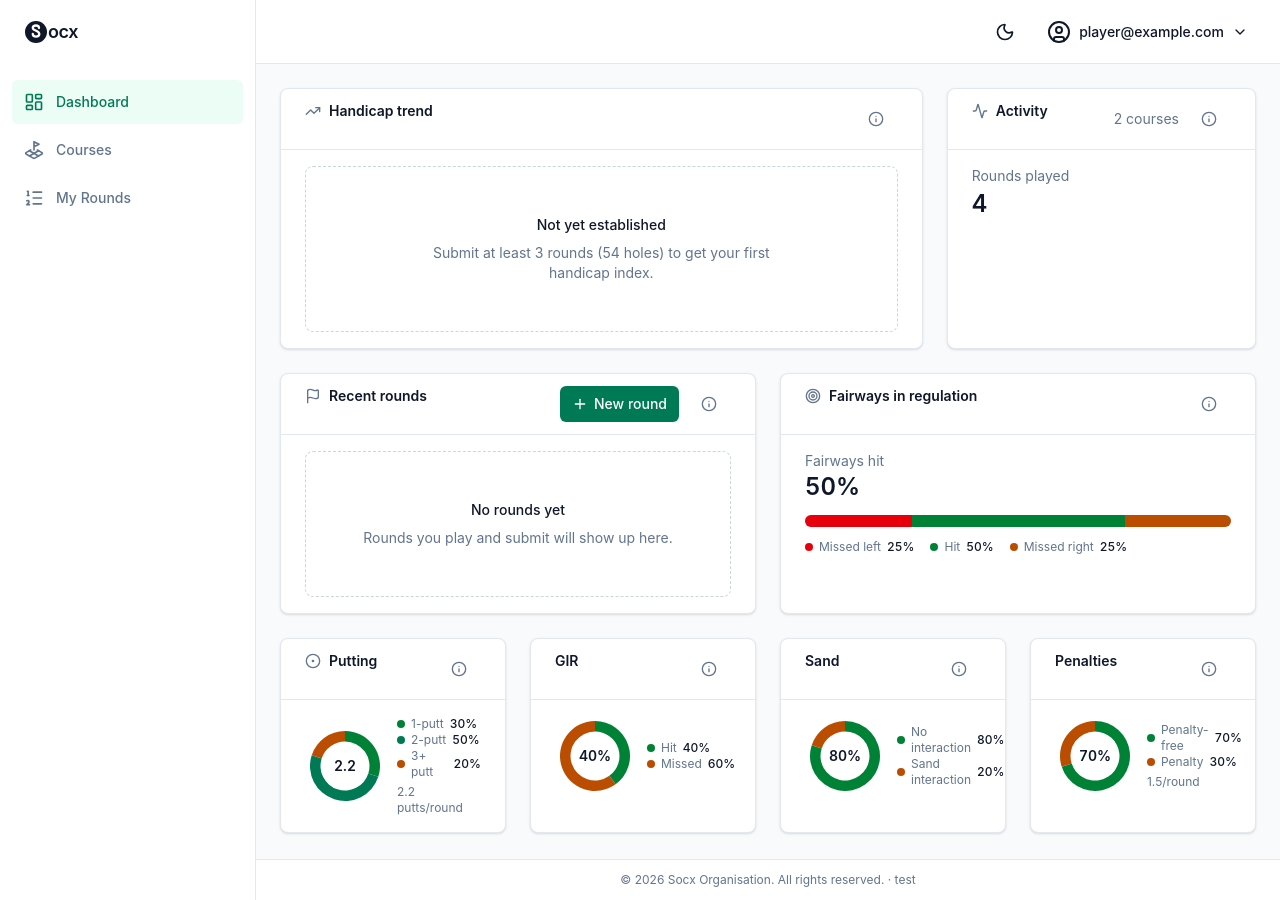
Test case: PlayerDashboardPage › navigates to /rounds/new via the New round button (ghs#94)
The width and height of the screenshot is (1280, 900).
Step 1. Click the button "New round" → (620, 404), box [560,386,679,422]
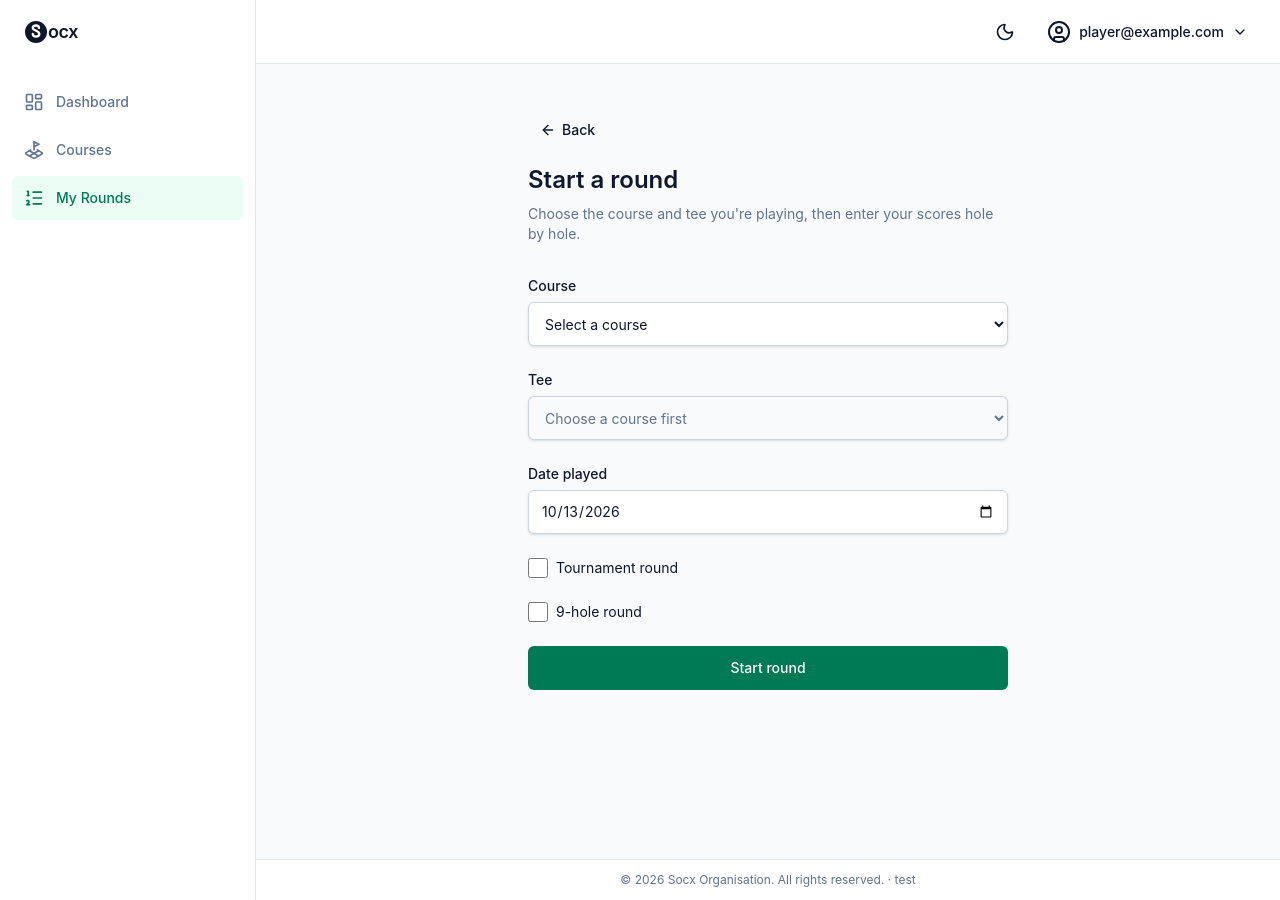
Now the heading "Start a round" is shown, box [528,165,678,194]
